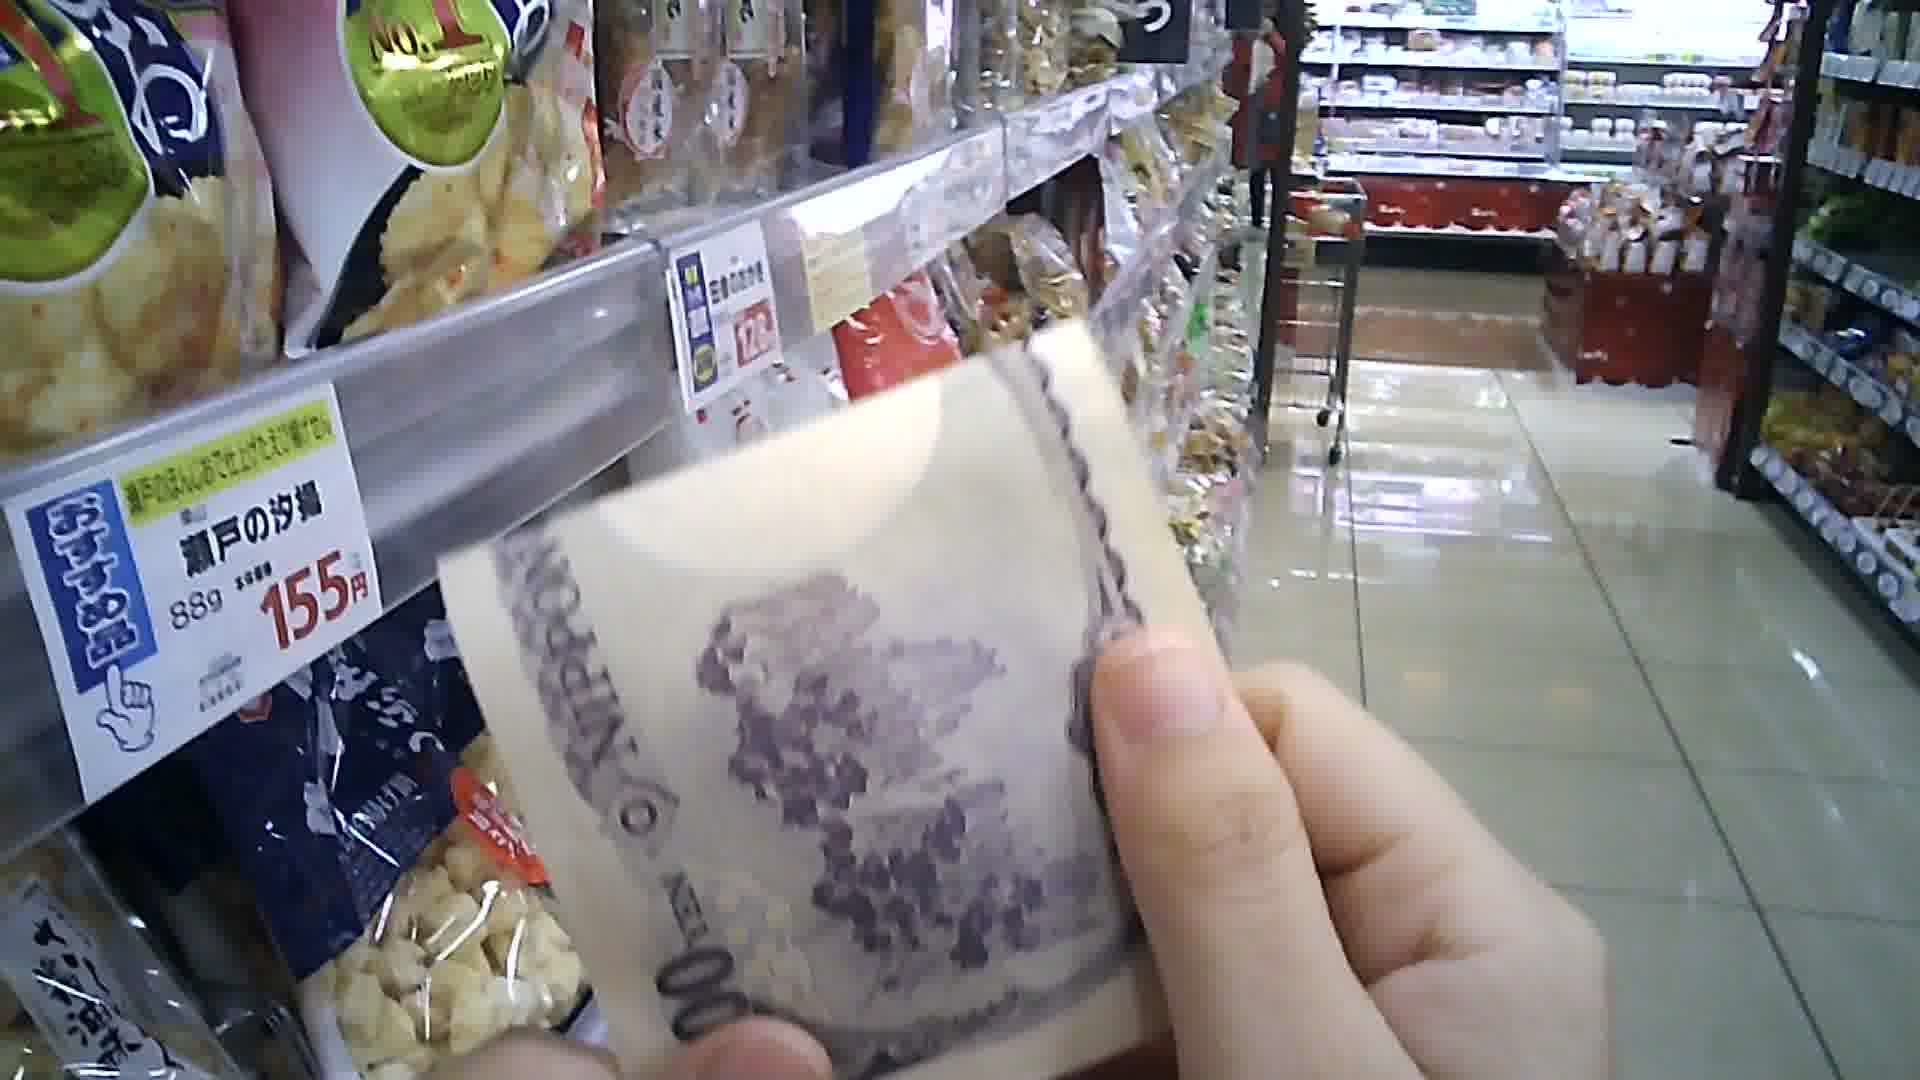5,000 Yen: (440, 365, 1315, 1079)
